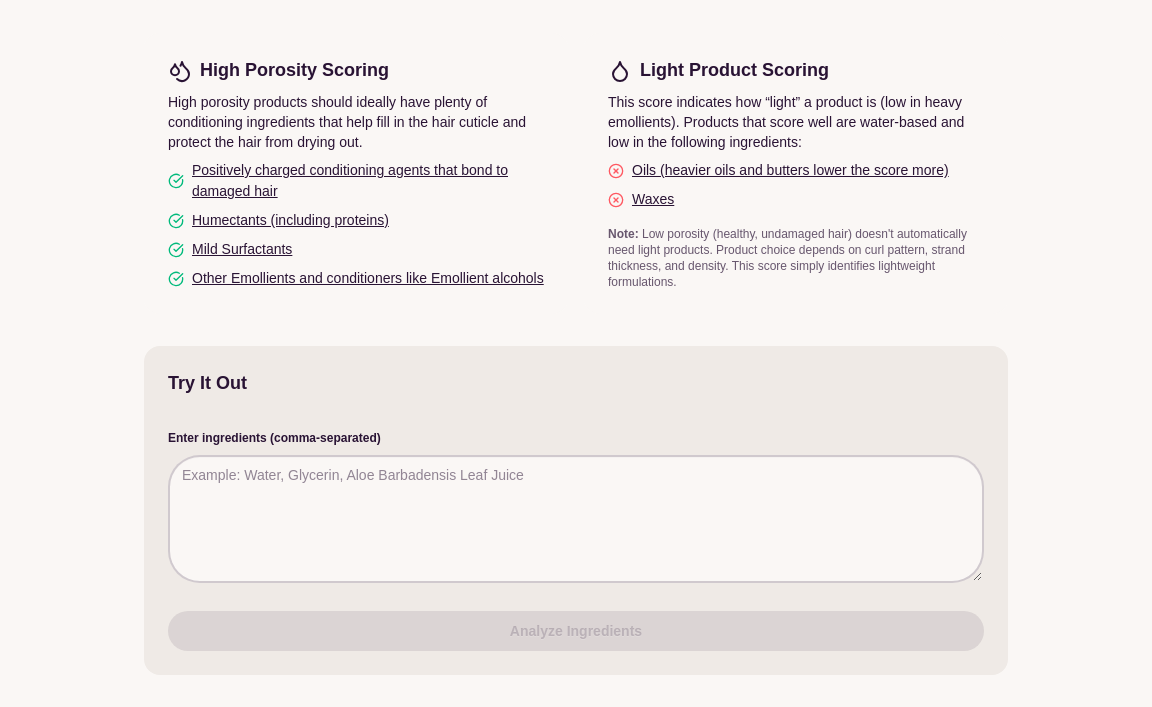
PorosityLabPage › should show low porosity score less than 30 for specific ingredients
The image size is (1152, 707).
(page scrolled)
Note: Get the textarea and enter the test ingredients
Type "Petrolatum, Lanolin, Lecithin, Mineral Oil/Paraffinum Liquidum, Amyl Cinnamyl Cinnamyl Alcohol, Limonene, Linalool, Fragrance/Parfum, Green 6/CI 61565, Violet 2/CI 60725." into the text box with placeholder "Example: Water, Glycerin, Aloe Barbadensis Leaf Juice" at (576,519), box [168,455,984,583]
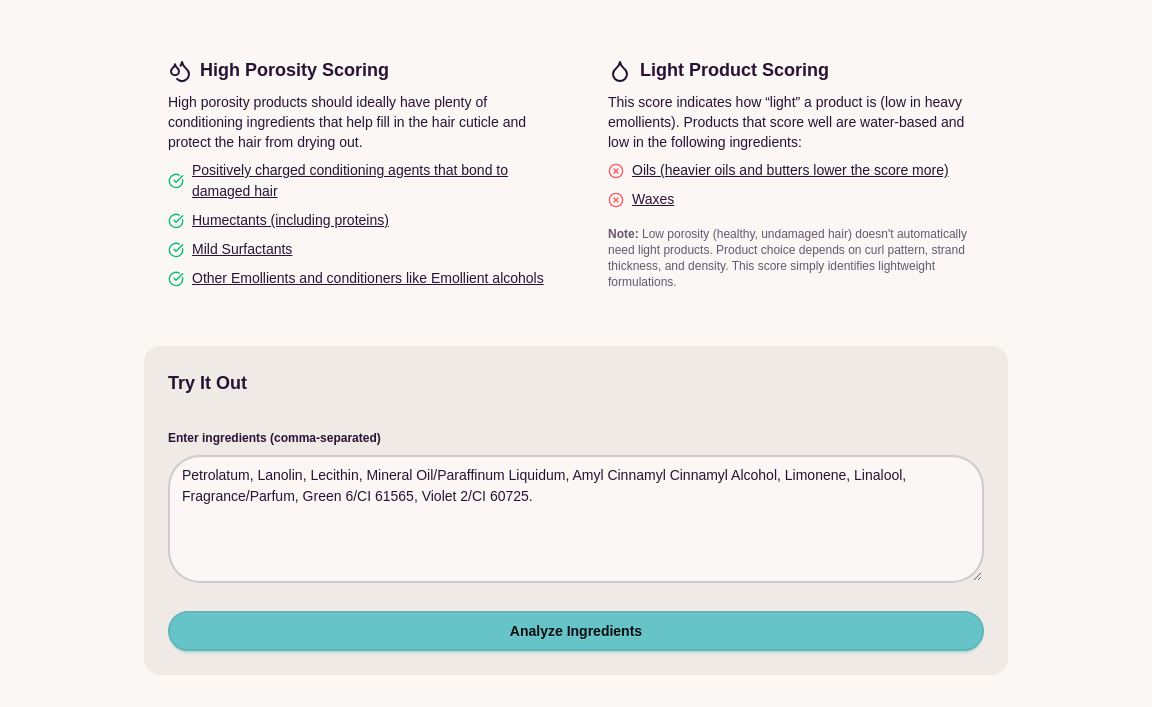
Click the button "Analyze Ingredients" at (576,631), box [168,611,984,651]
(page scrolled)
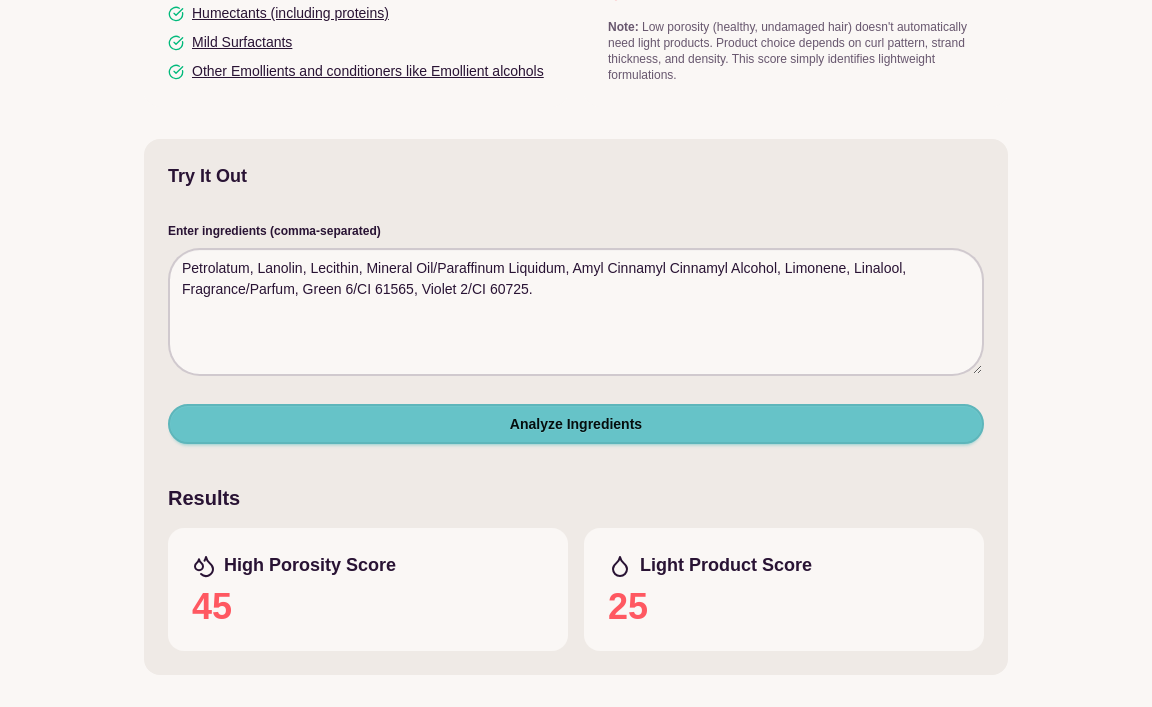
Expected: the text "25" is shown, [608,586,648,627]
Expected: the text "45" is shown, [192,586,232,627]
